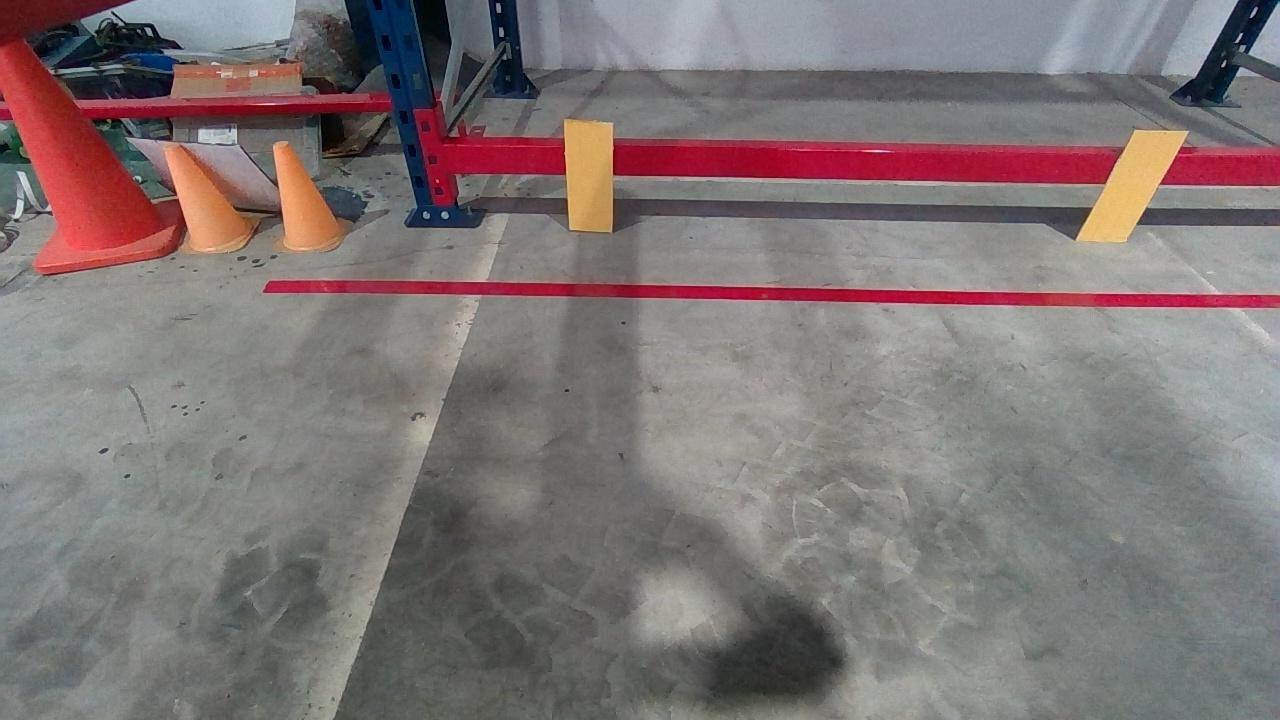h_rack: (443, 142, 1277, 188)
orange_strip: (1075, 125, 1190, 243), (563, 119, 615, 231)
red_line: (262, 277, 1279, 307)
